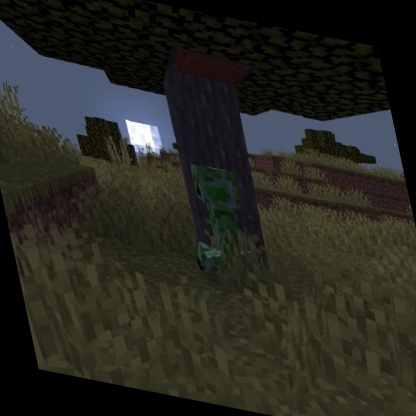creeper: (172, 156, 265, 288)
